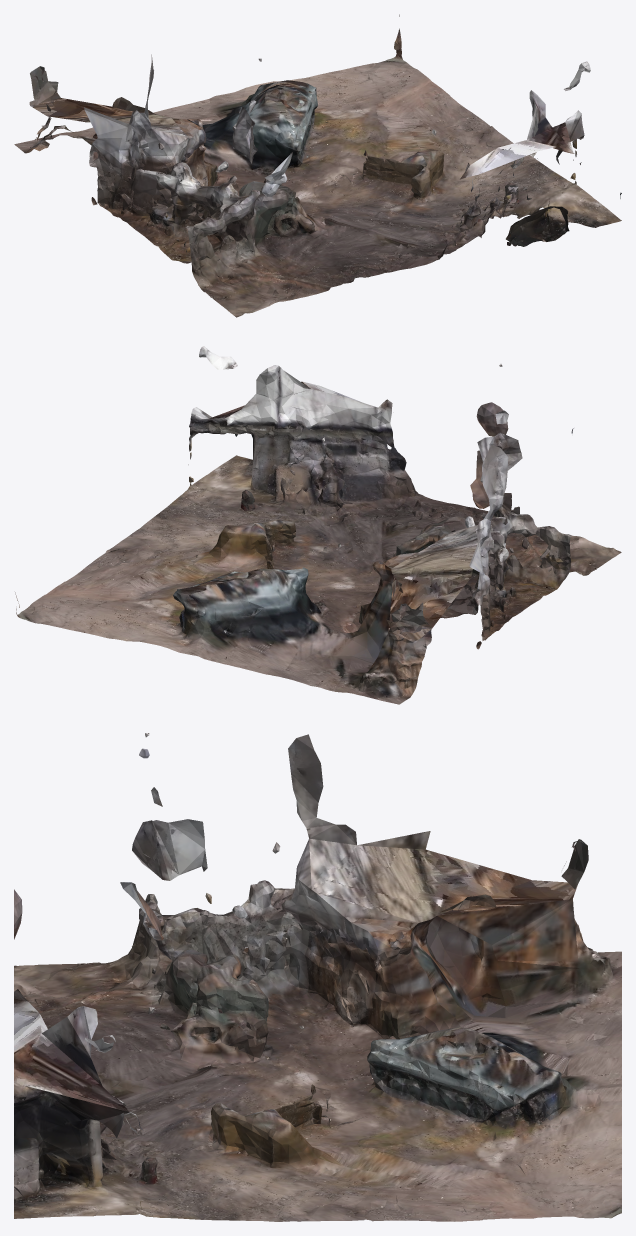
3 views of the same model, one above another, from view 1: azimuth 30°, elevation 25°; view 2: azimuth 150°, elevation 25°; view 3: azimuth 270°, elevation 25° (orthographic). The views are drawn at different scales.
Size of the model in its own units: 20.89 by 10.84 by 20.89.
5 materials, 5 textured.
